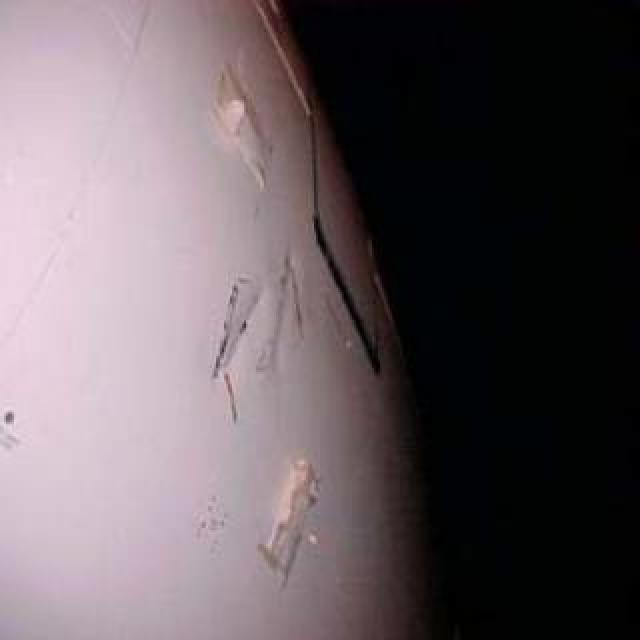dent: (271, 241, 305, 379), (220, 284, 262, 368)
